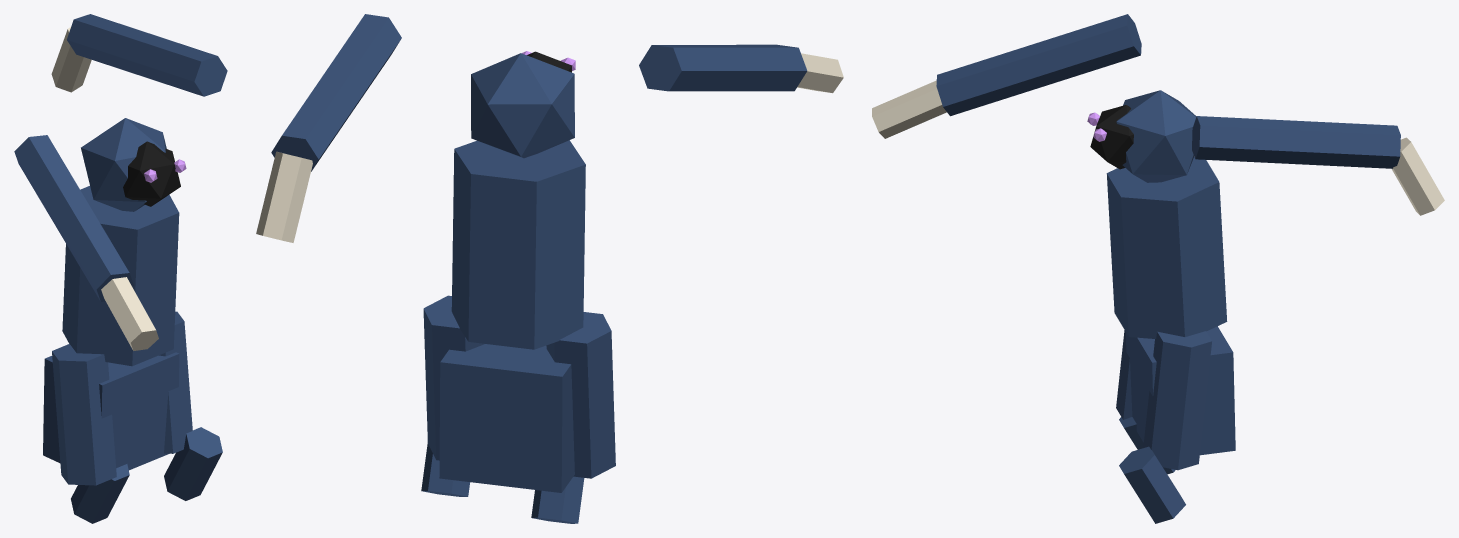
File: npcpose_wraith_attack_06.glb
3 views of the same model, side by side, from view 1: azimuth 30°, elevation 25°; view 2: azimuth 150°, elevation 25°; view 3: azimuth 270°, elevation 25° (orthographic). The views are drawn at different scales.
Parts seen in each view (by area): view 1: npcpose; view 2: npcpose; view 3: npcpose.
Part boxes in pixels (box(x1,y1,x2,y2)): npcpose: box(14, 14, 227, 523); npcpose: box(256, 14, 843, 523); npcpose: box(872, 14, 1444, 523).
Size of the model in its own units: 0.7183 by 1.1 by 1.37.
